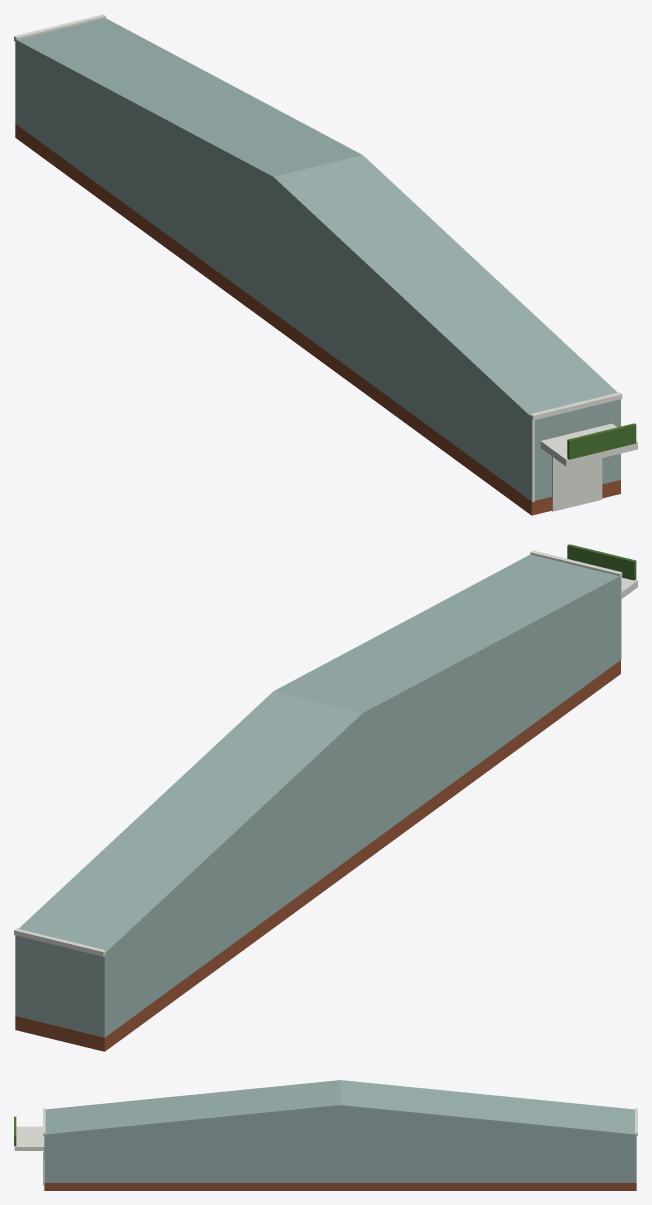
File: glasshouse-door.glb
The picture shows the model from 3 angles, top to bottom: view 1: azimuth 30°, elevation 25°; view 2: azimuth 150°, elevation 25°; view 3: azimuth 270°, elevation 25°; orthographic projection. The views are drawn at different scales.
Parts seen in each view (by area): view 1: glasshouse-door; view 2: glasshouse-door; view 3: glasshouse-door.
Part boxes in pixels (x1,y1,x2,y2): glasshouse-door: (14, 14, 637, 515); glasshouse-door: (14, 544, 637, 1051); glasshouse-door: (14, 1080, 637, 1190).
Bounding box in the file's own units: 4 × 6.4 × 42.15.
